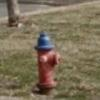a fire hydrant: (29, 33, 61, 93)
